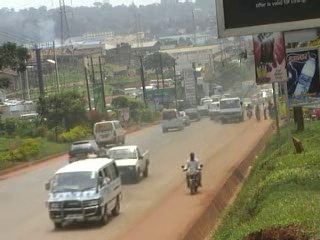Car: (65, 136, 103, 164), (158, 106, 186, 134), (182, 104, 199, 122), (195, 104, 210, 116), (179, 109, 189, 126)
Motorcycle: (179, 149, 204, 195), (244, 102, 253, 118)
